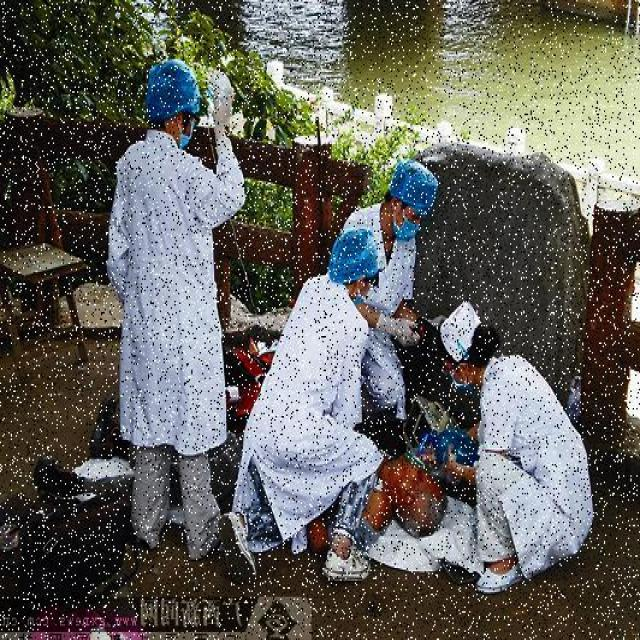fall: (49, 404, 442, 534)
